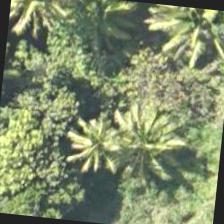Kelapa_Sawit: (97, 90, 196, 189), (48, 96, 147, 195), (148, 4, 223, 72)
